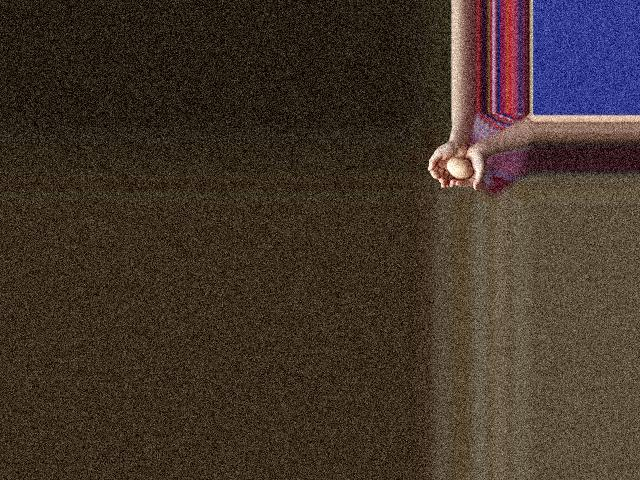egg: (447, 158, 474, 179)
